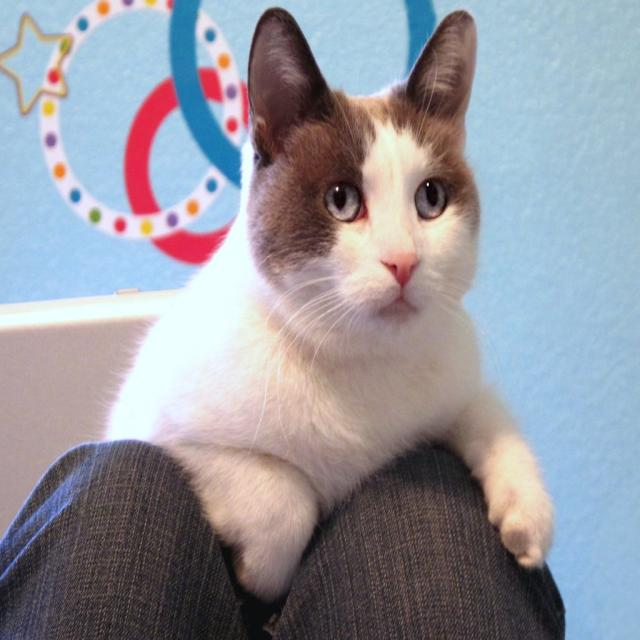Cat: (83, 4, 560, 606)
